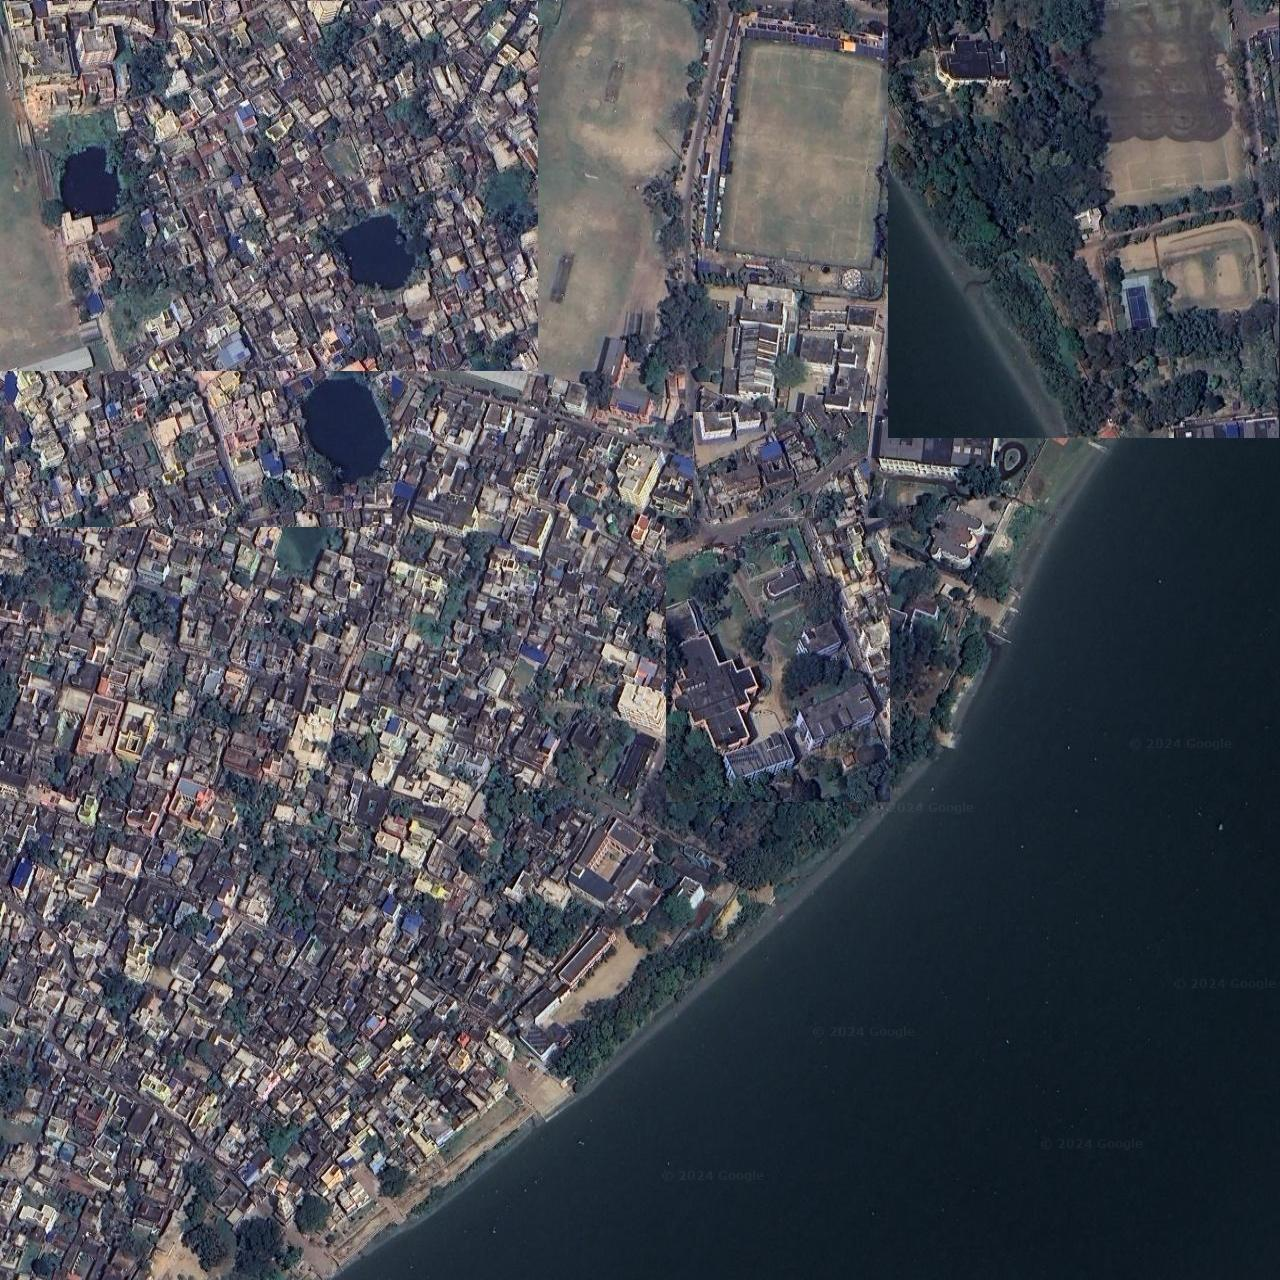greenery: (543, 617, 987, 1071), (888, 0, 1279, 438)
house: (0, 660, 613, 1280), (124, 332, 788, 804), (5, 0, 392, 527), (0, 1, 538, 372), (2, 0, 264, 445), (0, 635, 222, 1117), (0, 443, 149, 985), (666, 518, 890, 802), (693, 266, 891, 468), (694, 413, 869, 544)
water: (335, 178, 1278, 1280)
